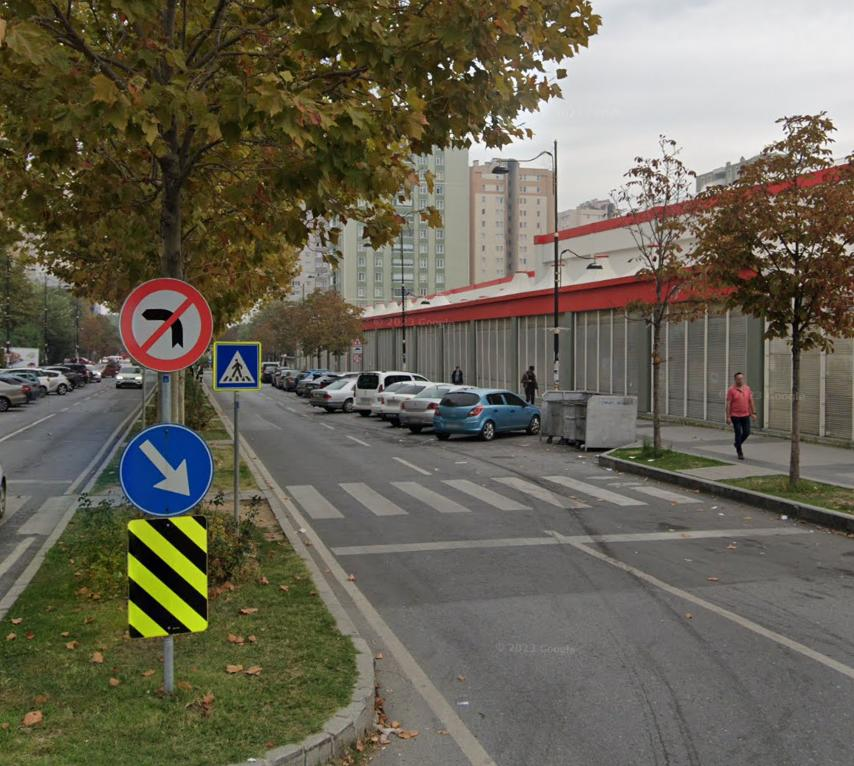leftturnsareforbidden: (117, 277, 213, 373)
